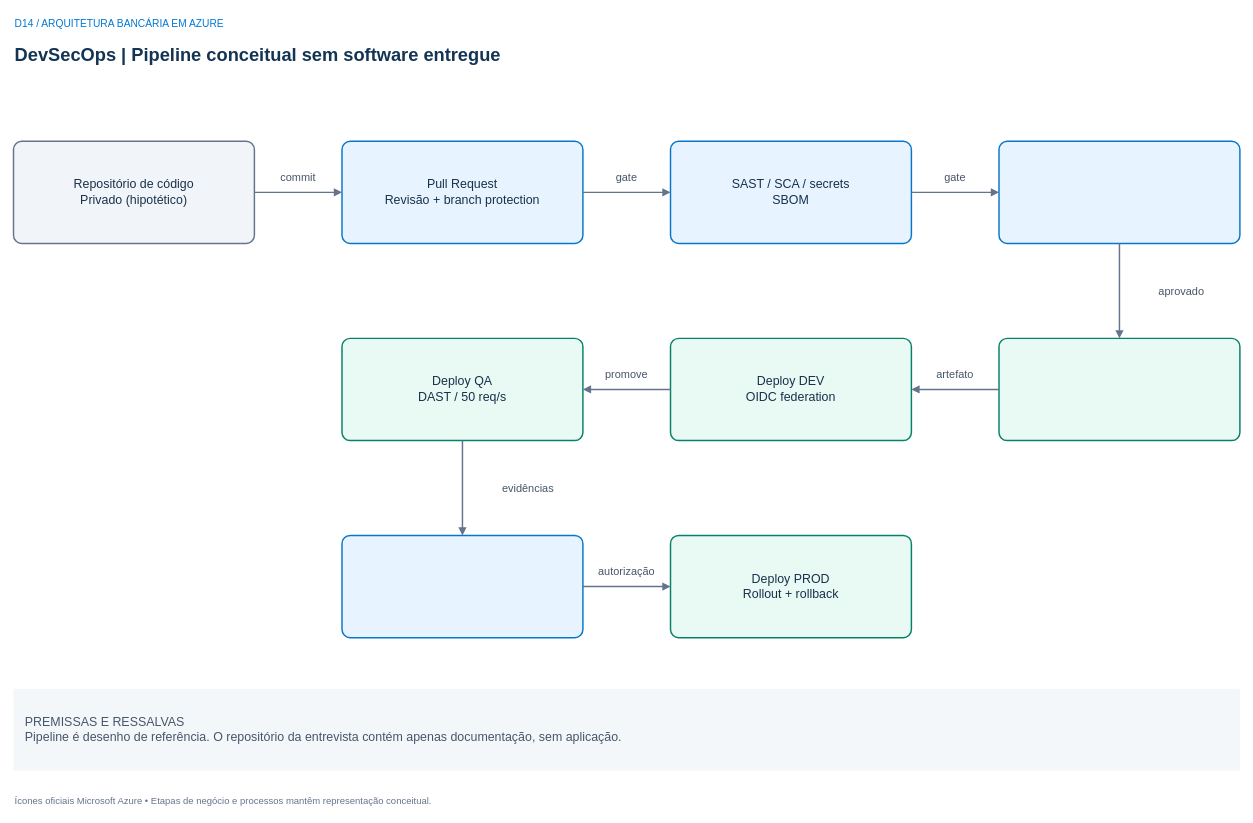
The diagram is 1253 pixels wide and 823 high, and some of its shapes have lost their labels. The box of each missing label's shape, as (x1, y1, x2, y2) in pixels:
Aprovação + SoD Gate PROD: (341, 534, 583, 638)
Build + artefato Assinatura / proveniência: (998, 337, 1240, 441)
IaC / containers Scan e policy-as-code: (998, 140, 1240, 244)
